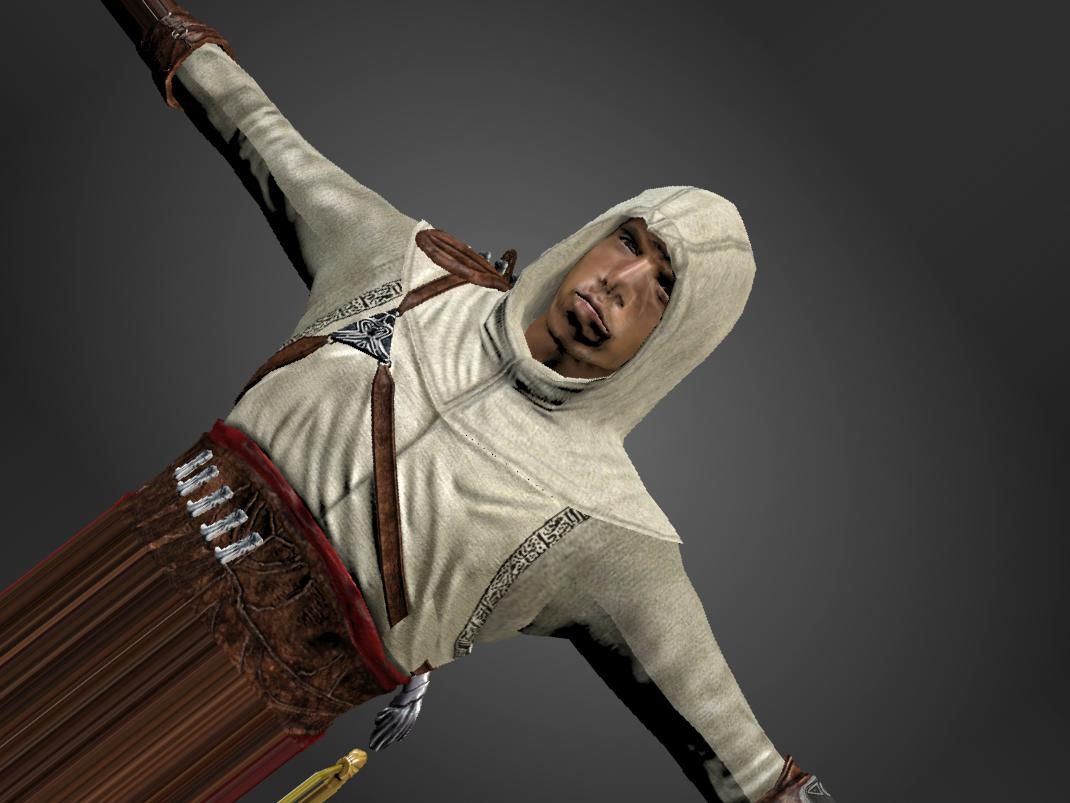clip: (383, 609, 443, 657)
